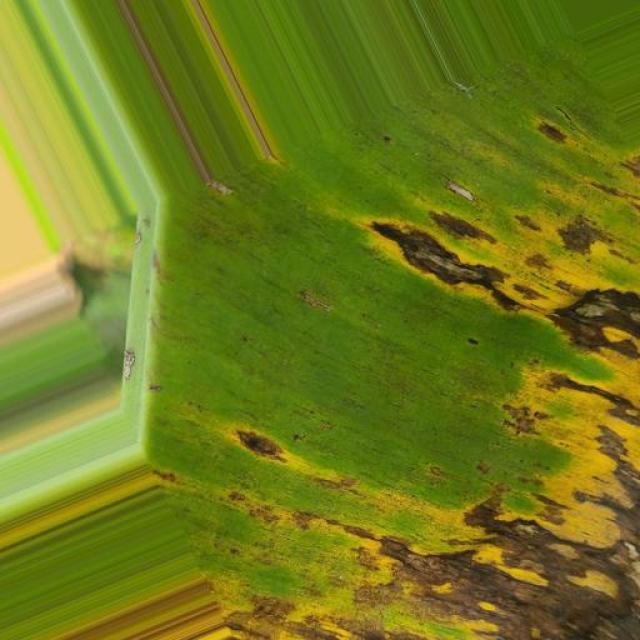Early_rust: (62, 108, 640, 640)
